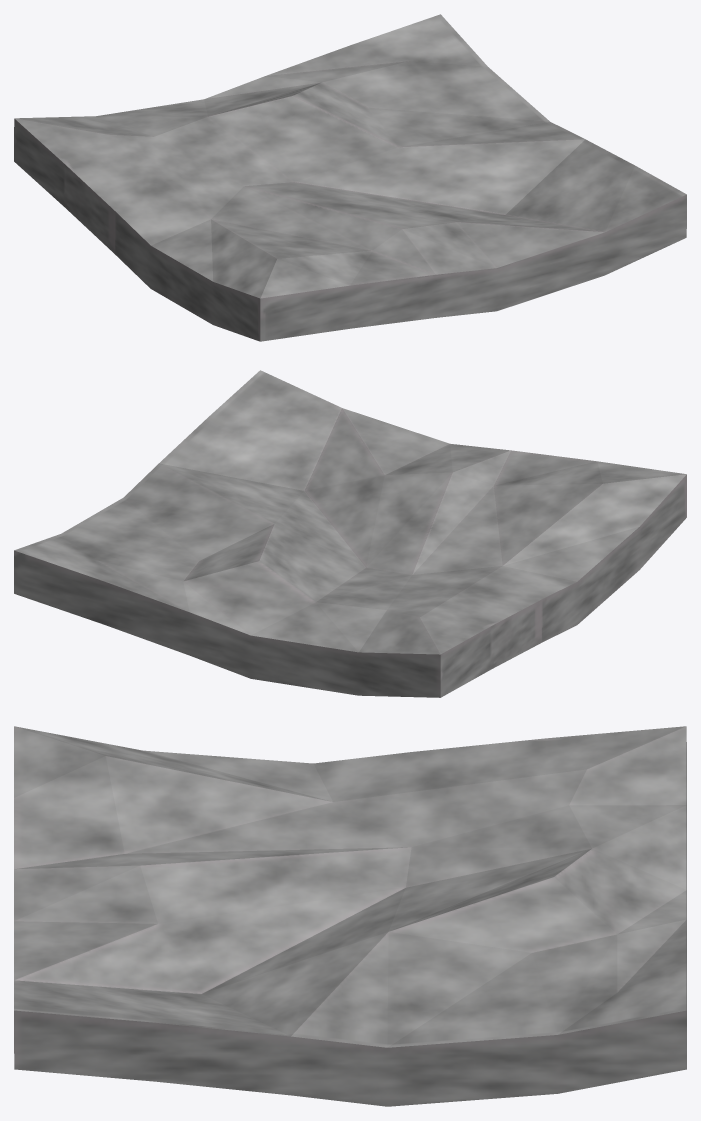
The model's file is Roof1.gltf.
The picture shows the model from 3 angles, top to bottom: view 1: azimuth 30°, elevation 25°; view 2: azimuth 150°, elevation 25°; view 3: azimuth 270°, elevation 25°; orthographic projection. The views are drawn at different scales.
Parts seen in each view (by area): view 1: Roof1; view 2: Roof1; view 3: Roof1.
Boxes of the visible parts, x1,y1,x2,y2 form: Roof1: (14, 14, 686, 341); Roof1: (14, 370, 686, 697); Roof1: (14, 726, 686, 1106).
Size of the model in its own units: 5 by 0.9973 by 5.
Materials: 1 (1 with a texture image).
